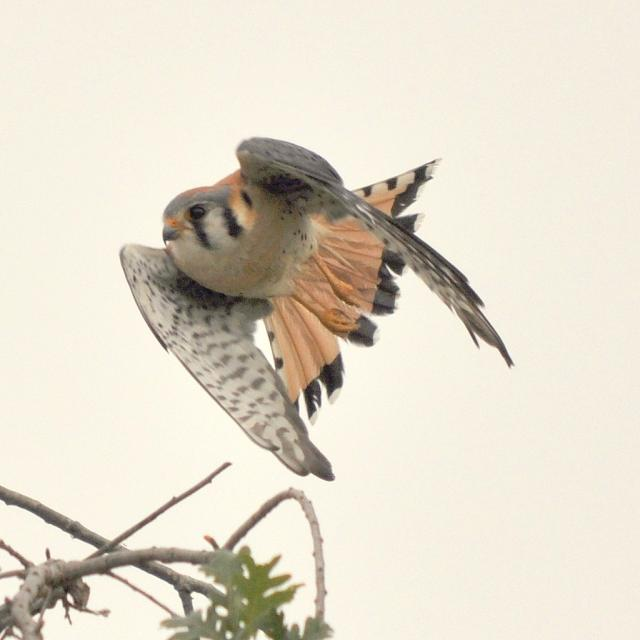bird: (106, 132, 524, 490)
